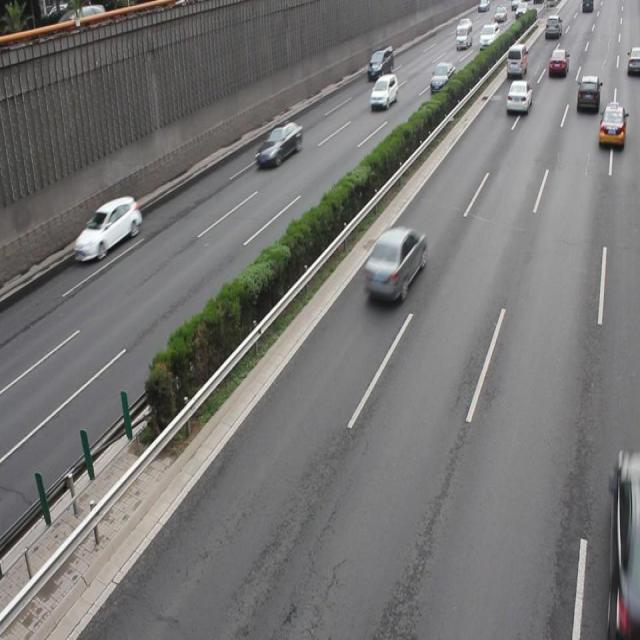car: (606, 450, 640, 627), (362, 224, 426, 302), (73, 194, 141, 263), (256, 121, 302, 167), (596, 101, 625, 149)
